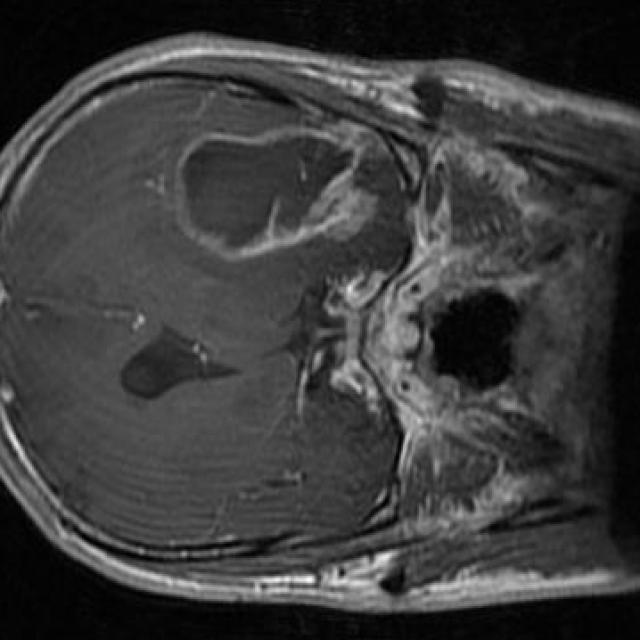glioma: (176, 127, 390, 262)
